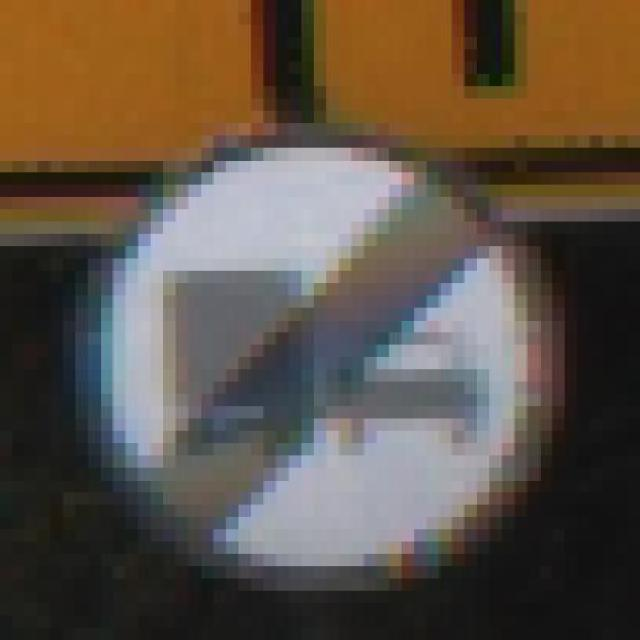Overtaking by trucks is prohibited: (87, 62, 590, 603)
